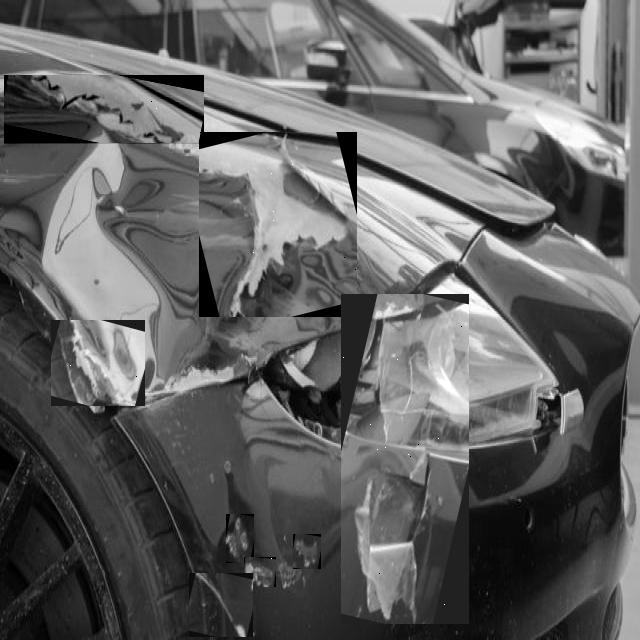Dent: (341, 294, 469, 624), (199, 132, 357, 317), (4, 76, 204, 146), (51, 320, 145, 406), (189, 573, 253, 637), (226, 514, 254, 563), (293, 534, 321, 569), (244, 557, 276, 587), (412, 443, 431, 481)
